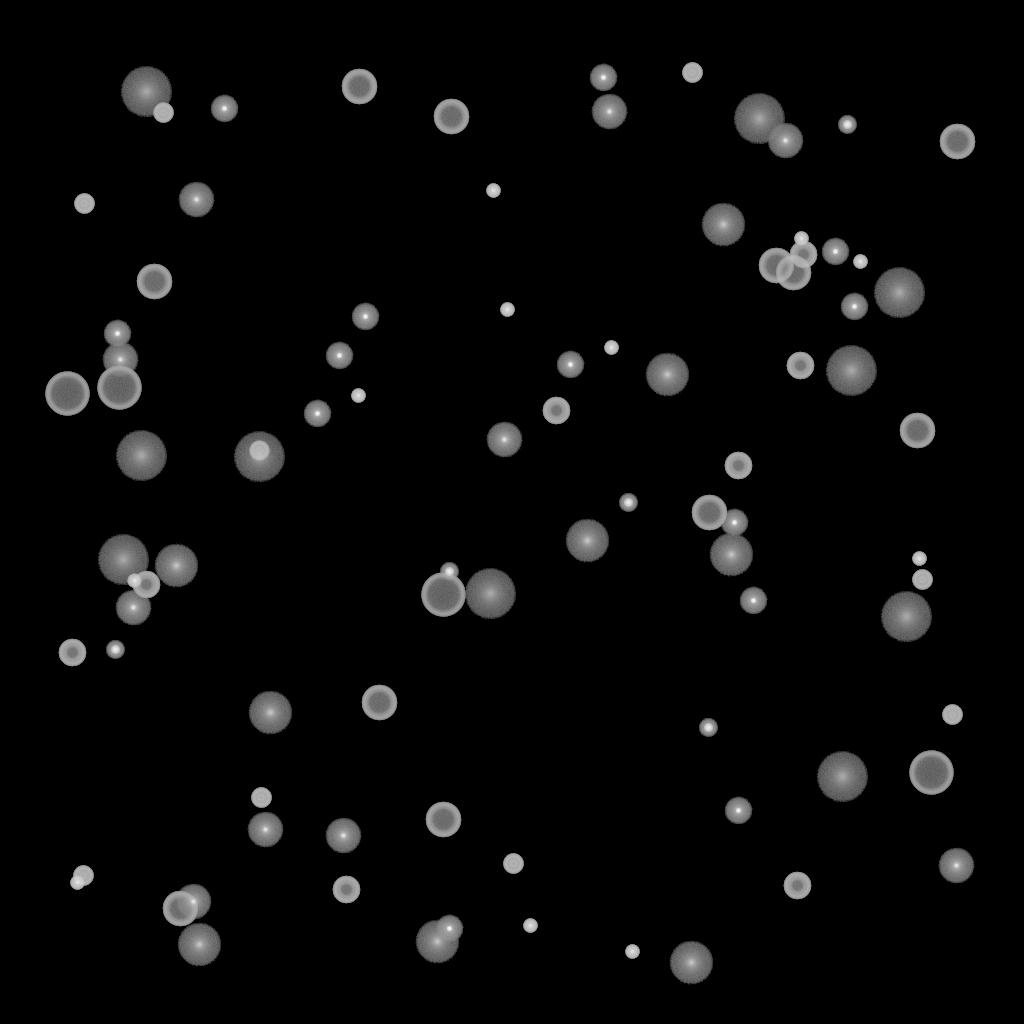depth:-10: (720, 509, 748, 537), (821, 238, 849, 266), (210, 95, 238, 123), (325, 342, 353, 370), (840, 293, 868, 321), (103, 320, 131, 348), (556, 351, 584, 379), (739, 587, 767, 615), (351, 303, 379, 331), (303, 400, 331, 428), (435, 915, 463, 943), (724, 797, 752, 825), (589, 64, 617, 92)
depth:-20: (106, 641, 124, 659), (619, 494, 637, 512), (699, 719, 717, 737), (440, 563, 458, 581), (838, 116, 856, 134)
depth:-30: (604, 341, 618, 355), (794, 232, 808, 246), (351, 389, 365, 403), (127, 574, 141, 588), (70, 876, 84, 890), (486, 184, 500, 198), (625, 945, 639, 959), (523, 919, 537, 933), (912, 552, 926, 566), (500, 303, 514, 317), (853, 255, 867, 269)
depth:-40: (73, 866, 93, 886), (251, 788, 271, 808), (249, 441, 269, 461), (682, 63, 702, 83), (74, 194, 94, 214), (912, 570, 932, 590), (942, 705, 962, 725), (503, 854, 523, 874), (153, 103, 173, 123)
depth:-50: (783, 872, 811, 900), (789, 241, 817, 269), (786, 352, 814, 380), (542, 397, 570, 425), (58, 639, 86, 667), (132, 571, 160, 599), (724, 452, 752, 480), (332, 876, 360, 904)
depth:-60: (691, 495, 727, 531), (425, 802, 461, 838), (361, 685, 397, 721), (136, 264, 172, 300), (939, 124, 975, 160), (341, 69, 377, 105), (162, 891, 198, 927), (775, 255, 811, 291), (433, 99, 469, 135), (758, 248, 794, 284), (899, 413, 935, 449)
depth:-70: (421, 573, 465, 617), (909, 751, 953, 795), (45, 372, 89, 416), (97, 366, 141, 410)
depth:0: (178, 182, 214, 218), (247, 812, 283, 848), (175, 884, 211, 920), (486, 422, 522, 458), (767, 123, 803, 159), (325, 818, 361, 854), (591, 94, 627, 130), (938, 848, 974, 884), (115, 590, 151, 626), (102, 342, 138, 378)
depth:10: (565, 519, 609, 563), (248, 691, 292, 735), (645, 353, 689, 397), (415, 920, 459, 964), (154, 544, 198, 588), (177, 923, 221, 967), (669, 941, 713, 985), (709, 533, 753, 577), (701, 203, 745, 247)
depth:20: (120, 67, 172, 117), (816, 752, 868, 802), (115, 431, 167, 481), (873, 268, 925, 318), (464, 569, 516, 619), (233, 432, 285, 482), (733, 94, 785, 144), (880, 592, 932, 642), (825, 346, 877, 396), (97, 535, 149, 585)
